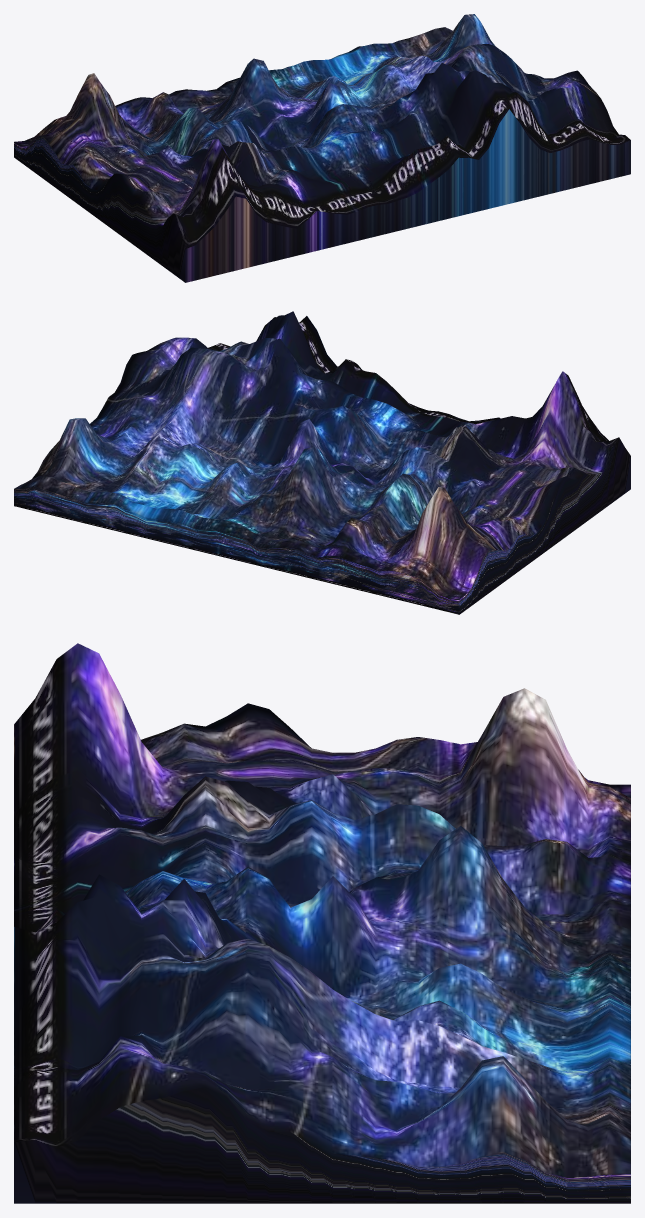
File: DISTRICT_14_Arcane_Magic_Towers.glb
3 views of the same model, one above another, from view 1: azimuth 30°, elevation 25°; view 2: azimuth 150°, elevation 25°; view 3: azimuth 270°, elevation 25° (orthographic). The views are drawn at different scales.
Visible parts, largest first — view 1: DISTRICT_14_Arcane_Magic_Towers; view 2: DISTRICT_14_Arcane_Magic_Towers; view 3: DISTRICT_14_Arcane_Magic_Towers.
Boxes of the visible parts, left/top/right/bottom form: DISTRICT_14_Arcane_Magic_Towers: left=14, top=14, right=630, bottom=282; DISTRICT_14_Arcane_Magic_Towers: left=14, top=311, right=630, bottom=614; DISTRICT_14_Arcane_Magic_Towers: left=14, top=643, right=630, bottom=1203.
Bounding box in the file's own units: 2 × 0.51 × 1.33.
Materials: 1 (1 with a texture image).
